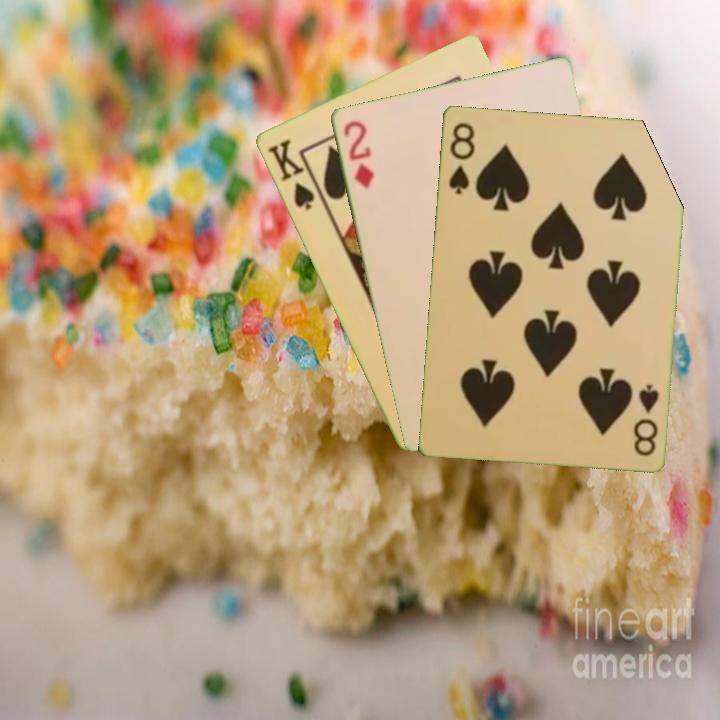2d: (339, 116, 377, 192)
8s: (444, 118, 477, 197), (629, 380, 661, 459)
Ks: (263, 135, 317, 213)
